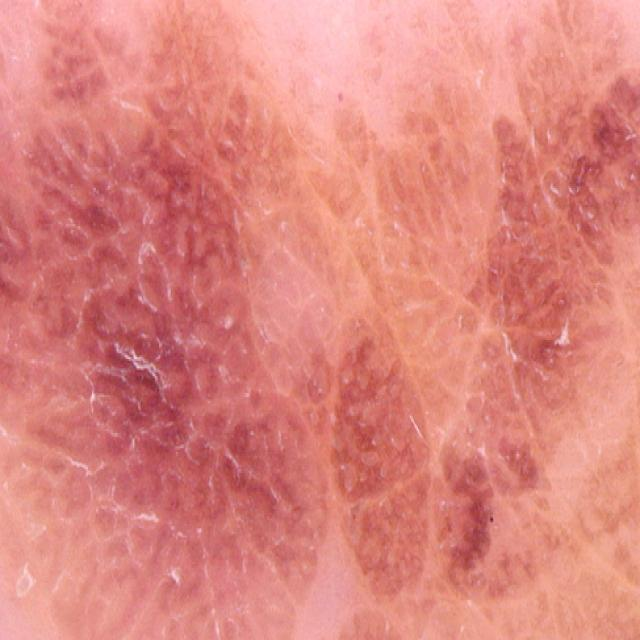Keratosis: (0, 129, 258, 591), (333, 257, 580, 636), (503, 101, 640, 245)
